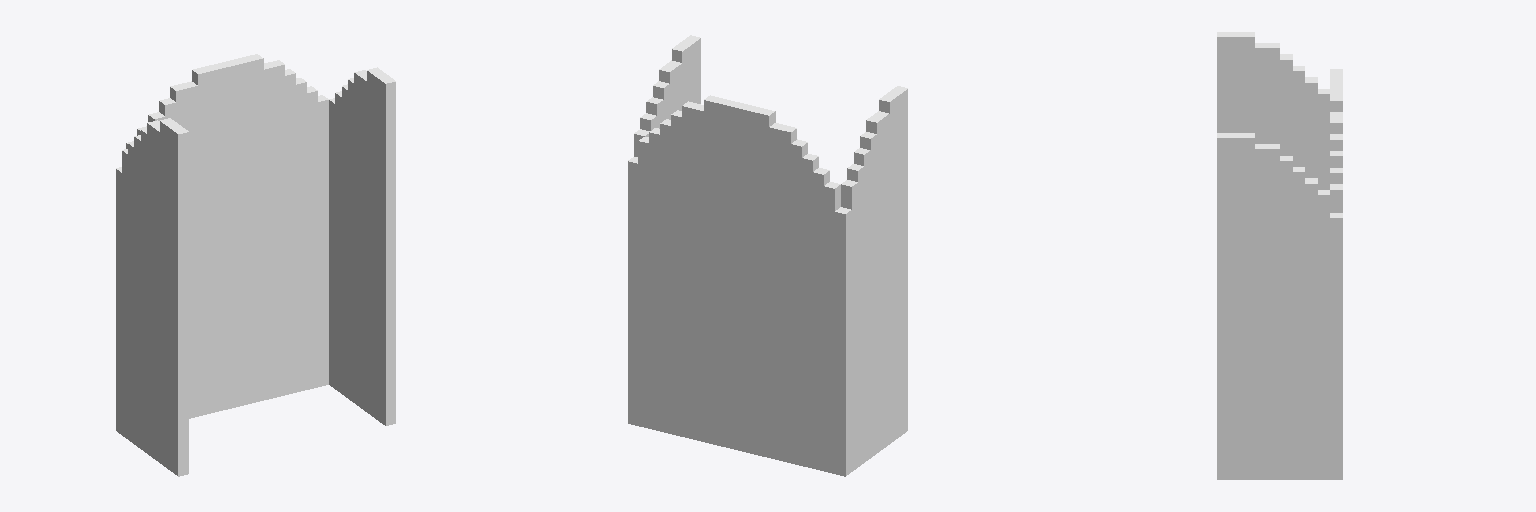
The model's file is door_open.obj.
3 renders of one model, left to right at view 1: azimuth 30°, elevation 25°; view 2: azimuth 150°, elevation 25°; view 3: azimuth 270°, elevation 25°, orthographic.
Parts seen in each view (by area): view 1: door_open; view 2: door_open; view 3: door_open.
Part boxes in pixels (left/top/right/bottom): door_open: left=116, top=54, right=395, bottom=476; door_open: left=628, top=35, right=907, bottom=476; door_open: left=1217, top=32, right=1342, bottom=479.
Bounding box in the file's own units: 20 × 30 × 10.